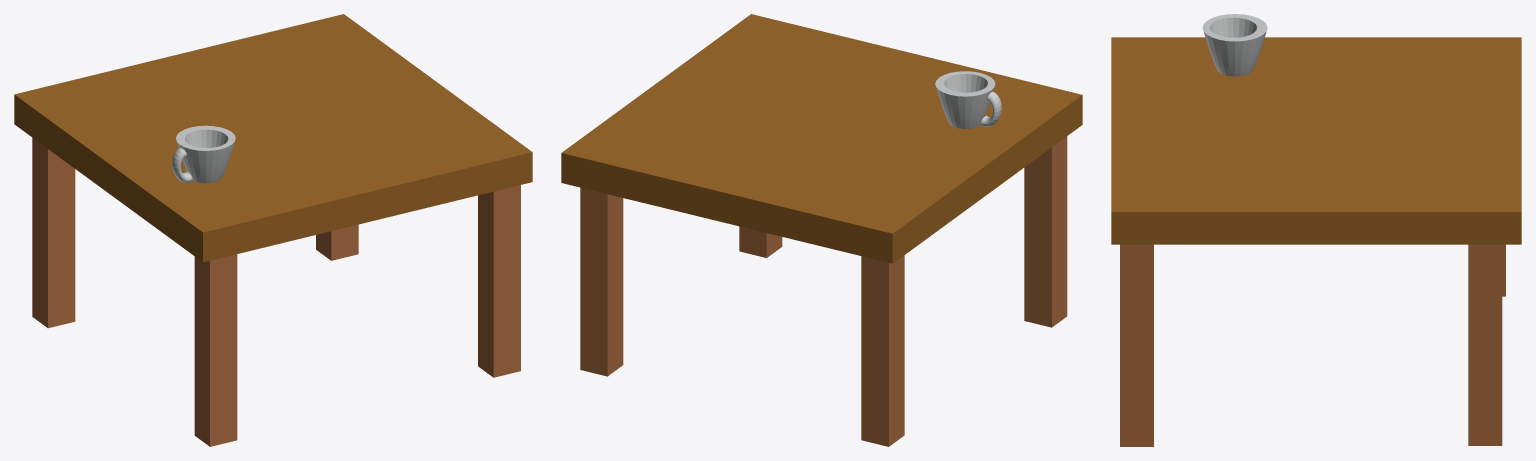
Rendered from Mesa.glb.
The picture shows the model from 3 angles, left to right: view 1: azimuth 30°, elevation 25°; view 2: azimuth 150°, elevation 25°; view 3: azimuth 270°, elevation 25°; orthographic projection. The views are drawn at different scales.
Parts seen in each view (by area): view 1: Mesh_Mesh_head_geo.001_lambert2SG.001; view 2: Mesh_Mesh_head_geo.001_lambert2SG.001; view 3: Mesh_Mesh_head_geo.001_lambert2SG.001.
Part boxes in pixels (box(x1,y1,x2,y2)): Mesh_Mesh_head_geo.001_lambert2SG.001: box(14, 14, 532, 446); Mesh_Mesh_head_geo.001_lambert2SG.001: box(561, 14, 1082, 446); Mesh_Mesh_head_geo.001_lambert2SG.001: box(1111, 14, 1521, 446).
Bounding box in the file's own units: 127 × 95 × 126.
